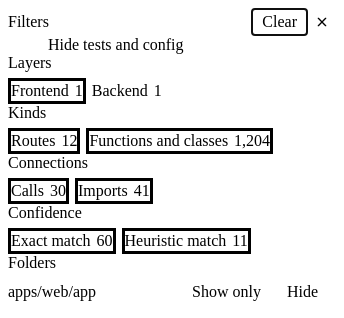
Test: FiltersPopover › keeps focus in the popover when Clear turns itself off
The image size is (344, 318).
Click the button "Clear" at [280, 22], box x1=251 y1=8 x2=308 y2=36
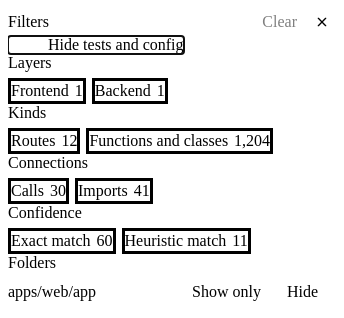
Check: the button "Clear" is disabled, box x1=251 y1=8 x2=308 y2=36
